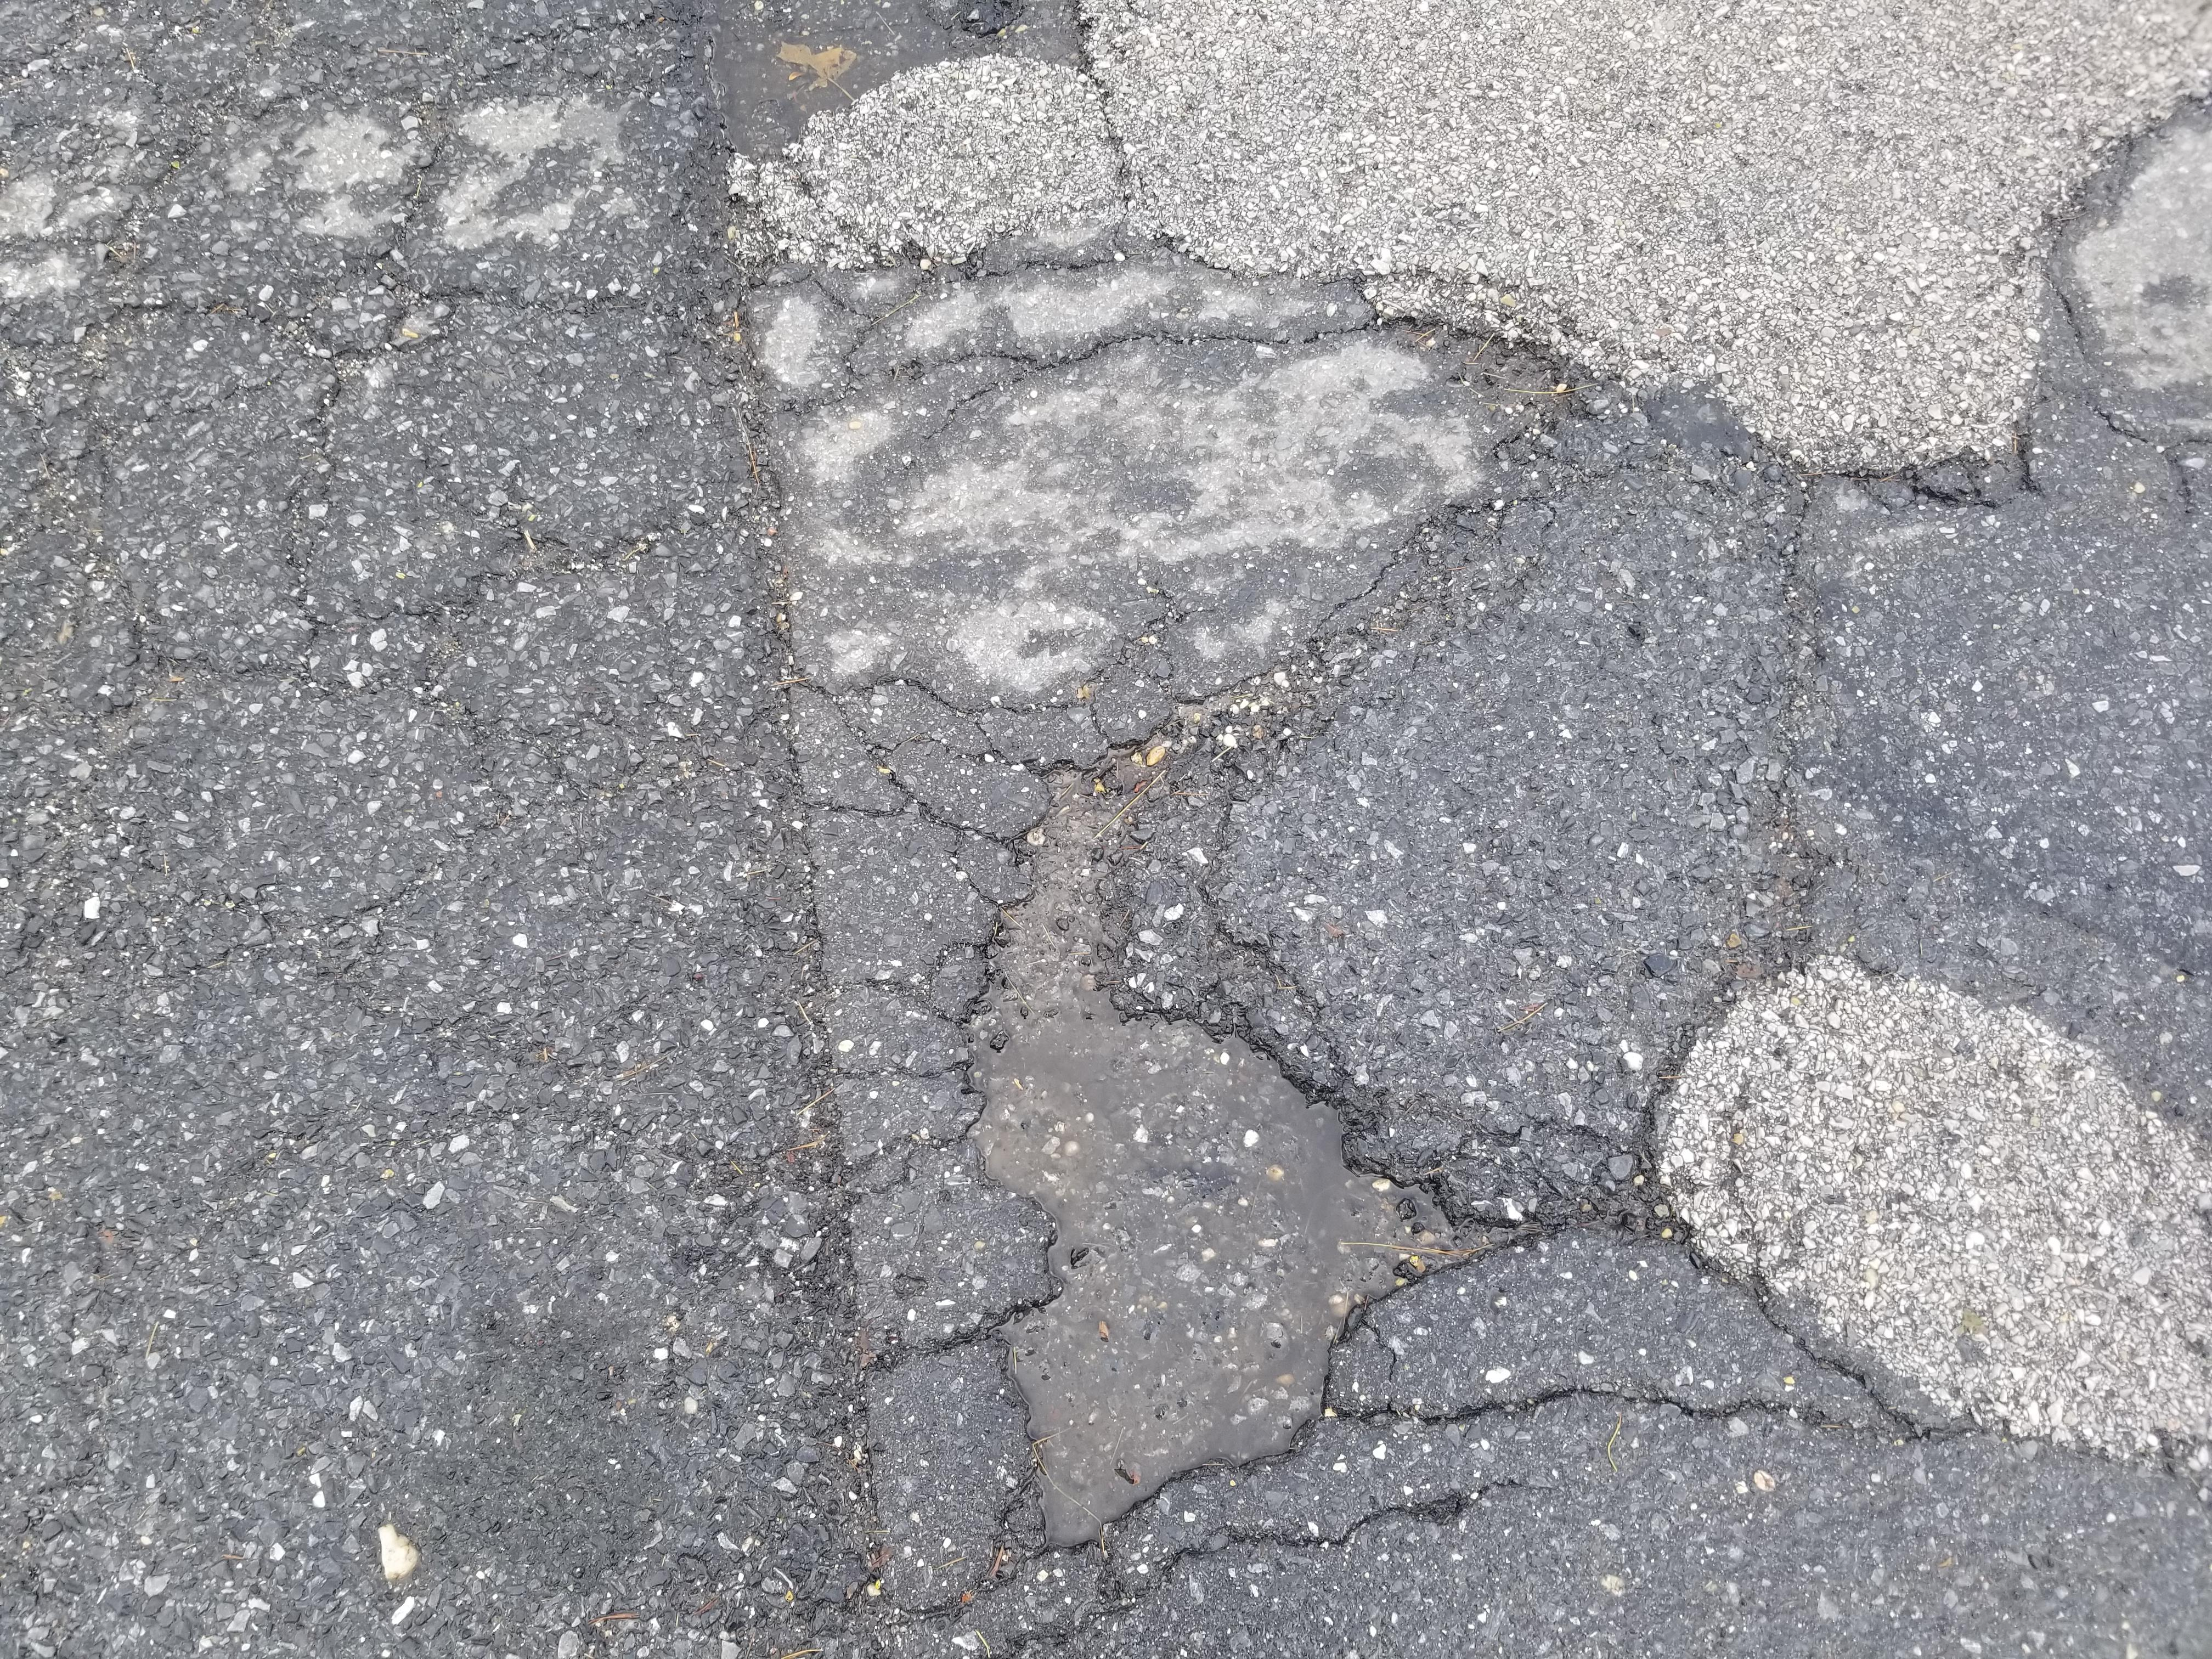alligator-crack: (761, 103, 2041, 641), (1426, 1053, 2041, 1584)
pothole: (87, 680, 1310, 1112)
